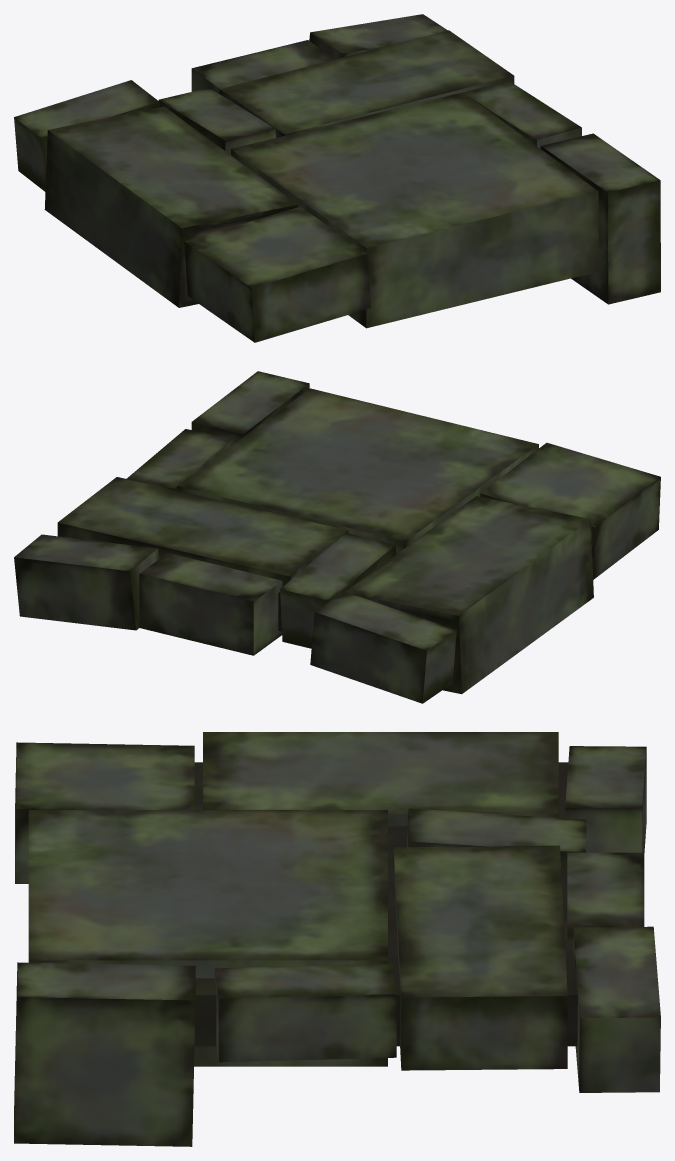
File: ruin-platform-02.fbx
3 renders of one model, top to bottom at view 1: azimuth 30°, elevation 25°; view 2: azimuth 150°, elevation 25°; view 3: azimuth 270°, elevation 25°, orthographic. The views are drawn at different scales.
Parts seen in each view (by area): view 1: platform02; view 2: platform02; view 3: platform02.
Part boxes in pixels (<box>): platform02: <box>14,14,660,342</box>; platform02: <box>14,371,660,703</box>; platform02: <box>14,732,660,1146</box>.
Bounding box in the file's own units: 233 × 61.22 × 235.
